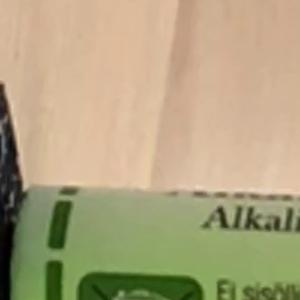ALK: (192, 196, 253, 238)
